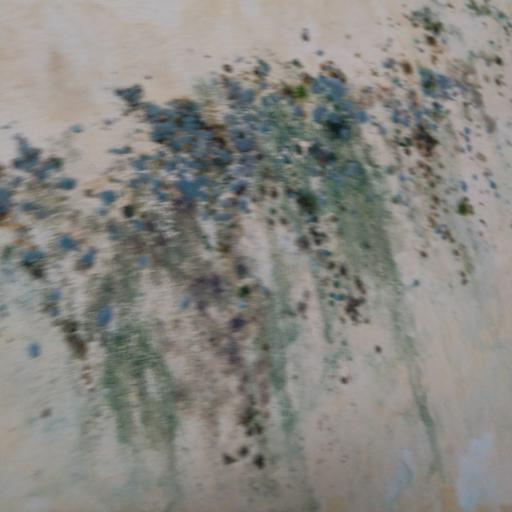algae: (6, 41, 512, 419)
